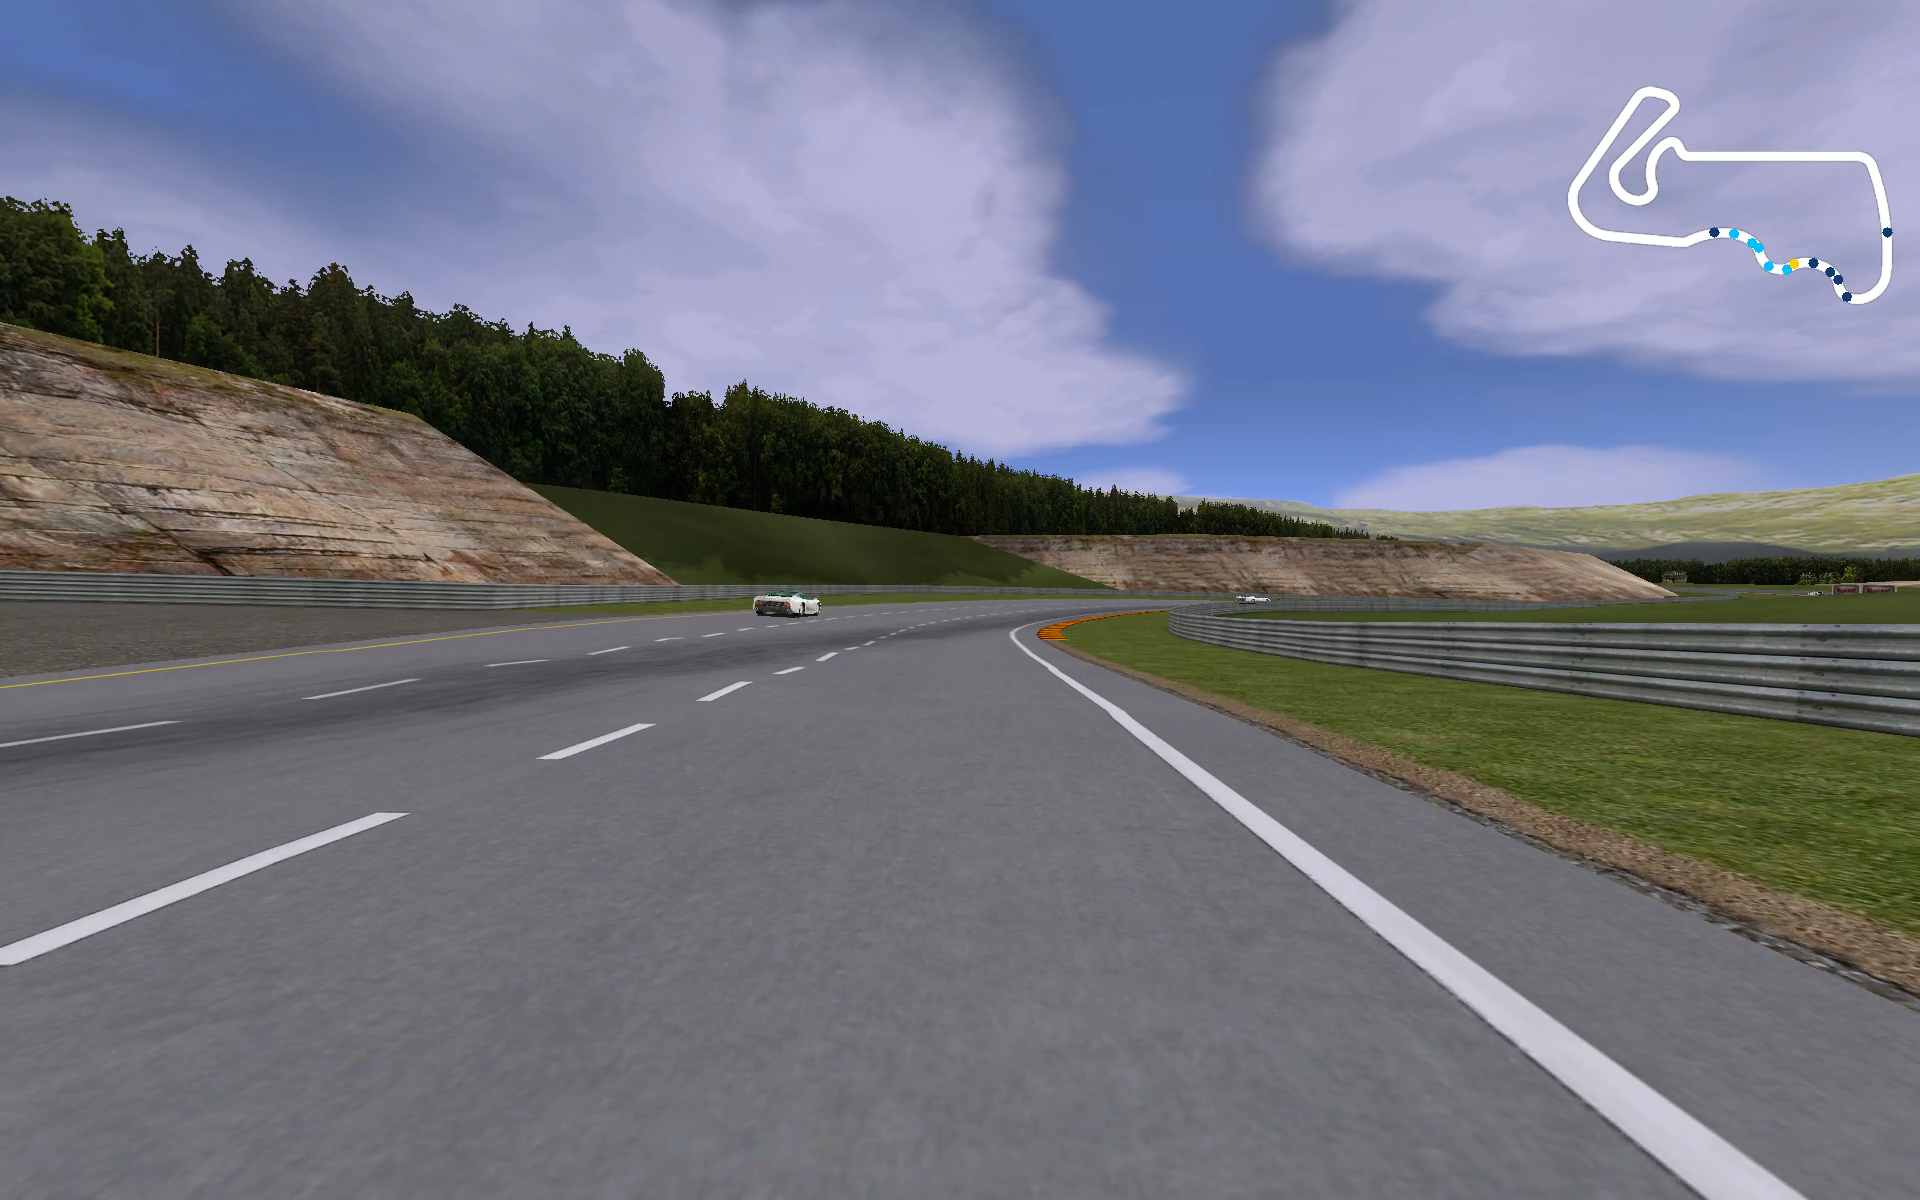car: (753, 589, 825, 624)
